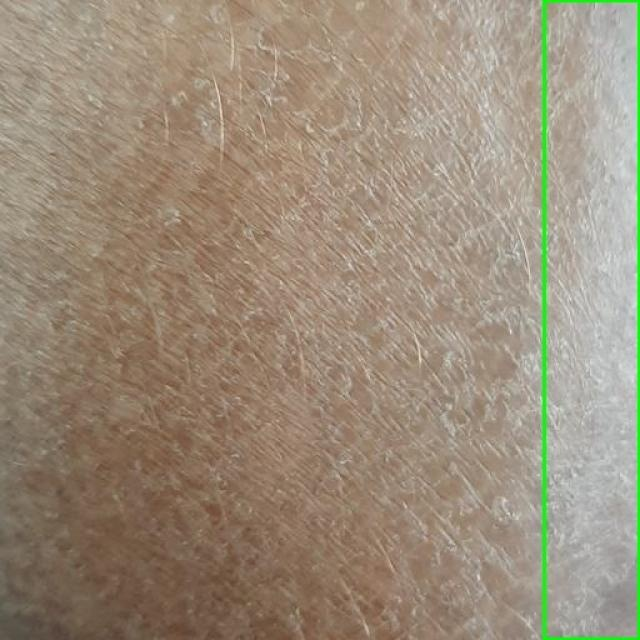Tinea Corporis: (544, 0, 639, 639)
